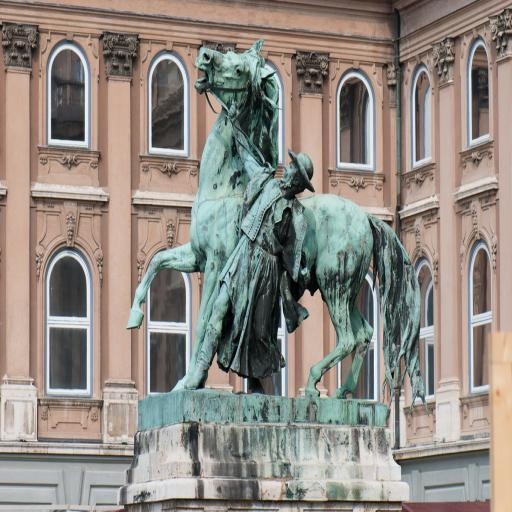horse: (124, 35, 430, 418)
